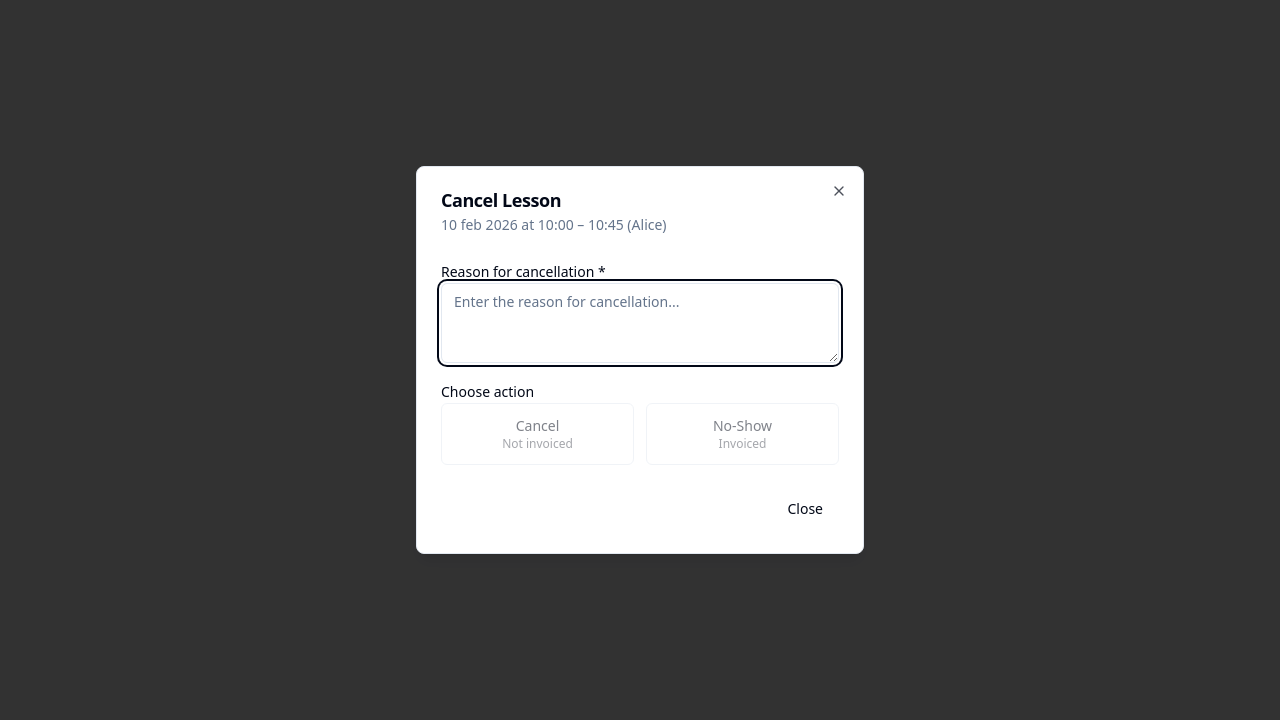
Test case: CancelLessonDialog › enables action buttons when reason is entered
The width and height of the screenshot is (1280, 720).
In the text box labelled "Reason for cancellation *": (640, 323) [441,283,839,363], type "Student is sick"
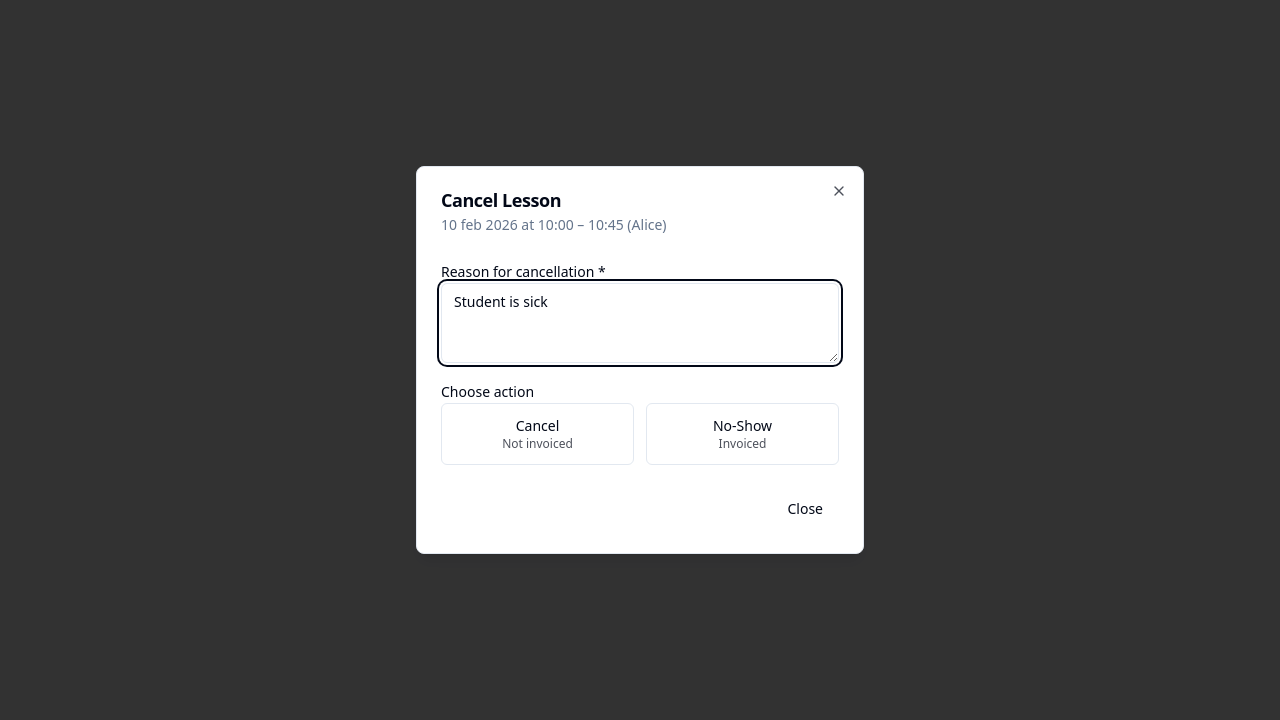
Now the button "Cancel Not invoiced" is enabled, box [441,403,634,465]
Now the button "No-Show Invoiced" is enabled, box [646,403,839,465]
